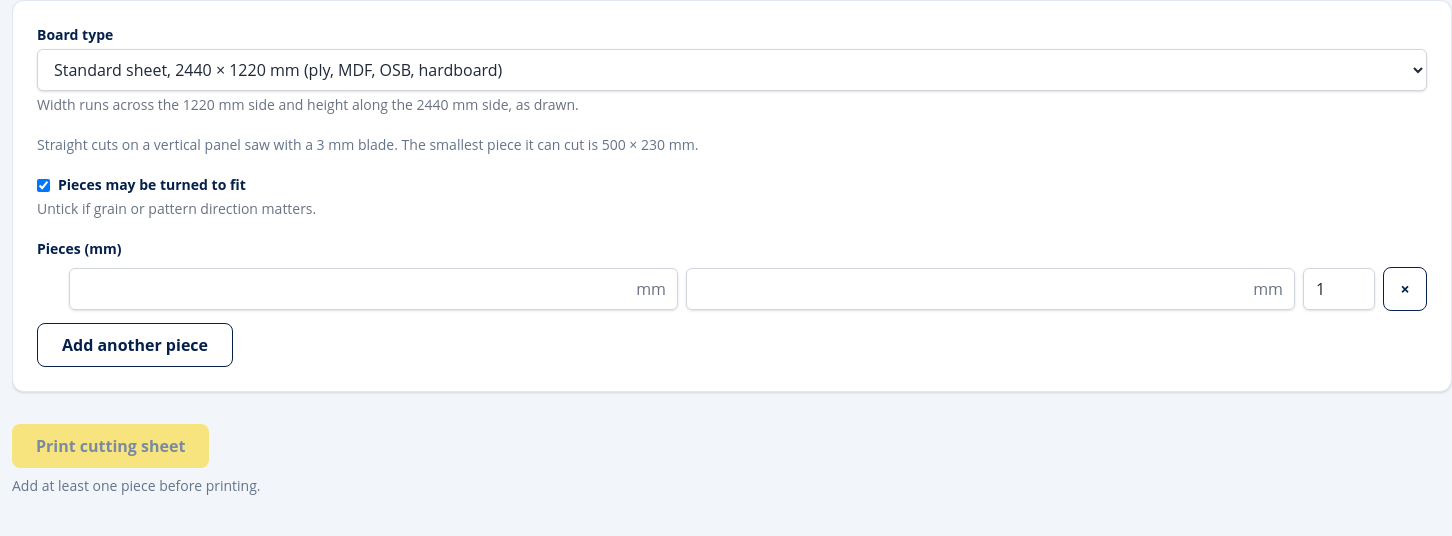
Test: BoardCuttingCalculator › records unreadable text typed into an empty size
The image size is (1452, 536).
Clear the number field named "Width of new piece" at (374, 289), box [69,268,678,310]
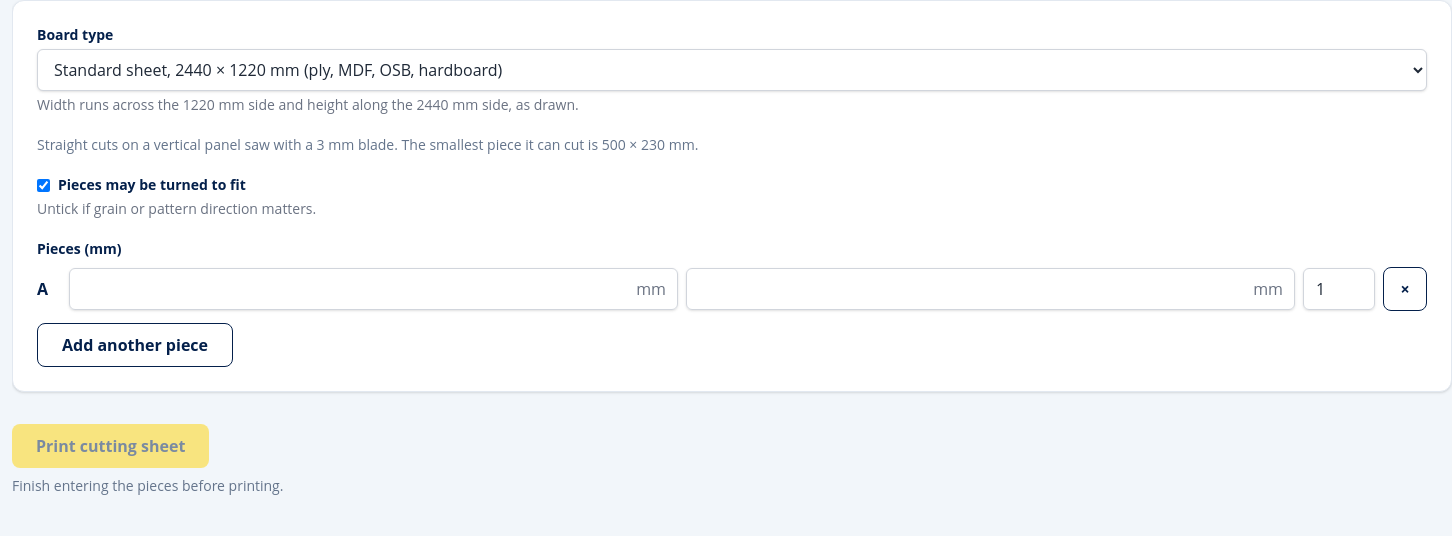
Leave the number field named "Width of piece A", box [69,268,678,310]
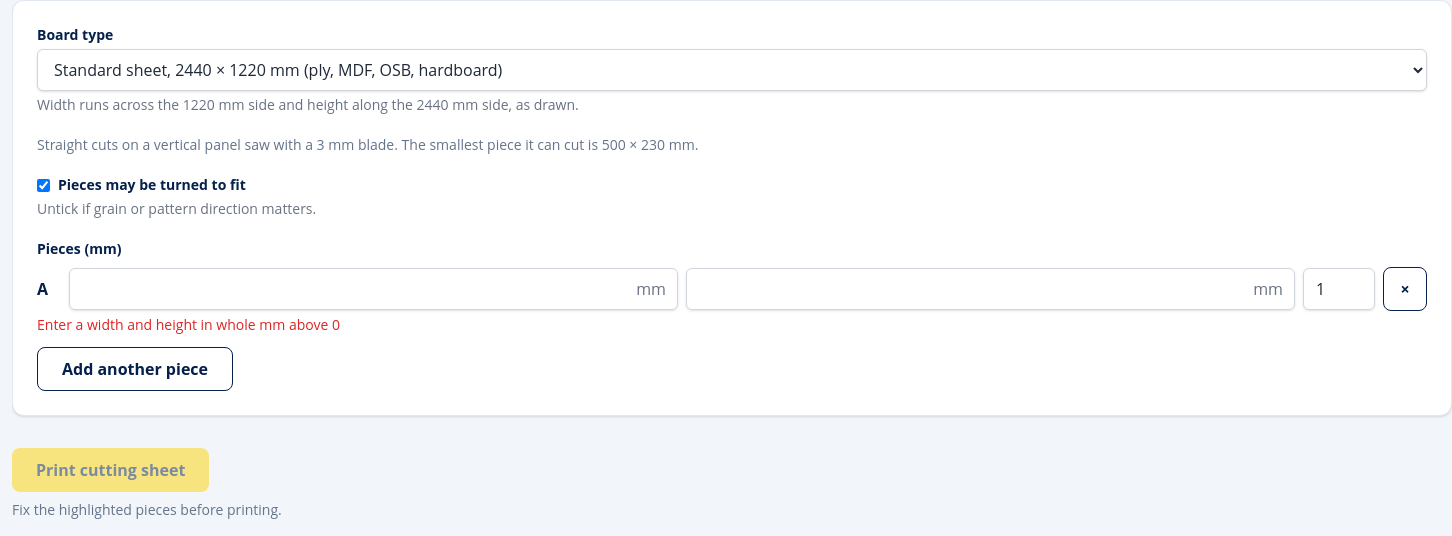
Expected: the button "Print cutting sheet" is disabled, [12,448,209,492]
Expected: the text "Enter a width and height in whole mm above 0" is shown, [37,315,340,334]
